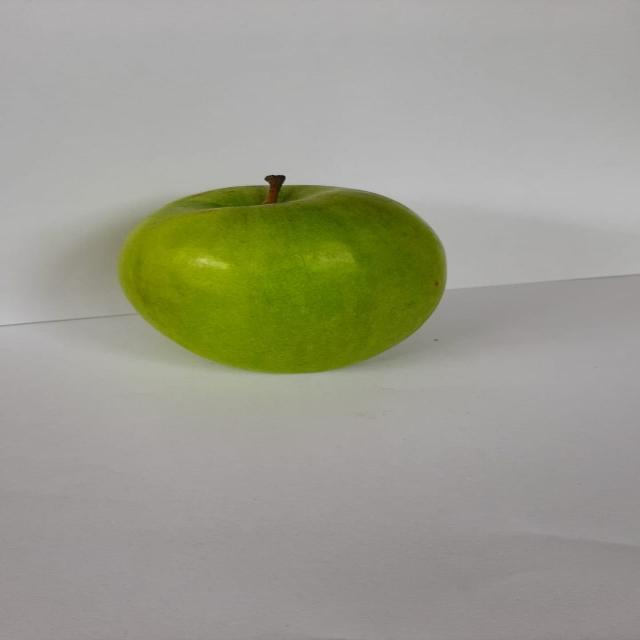50-_ripeness: (104, 168, 463, 392)
